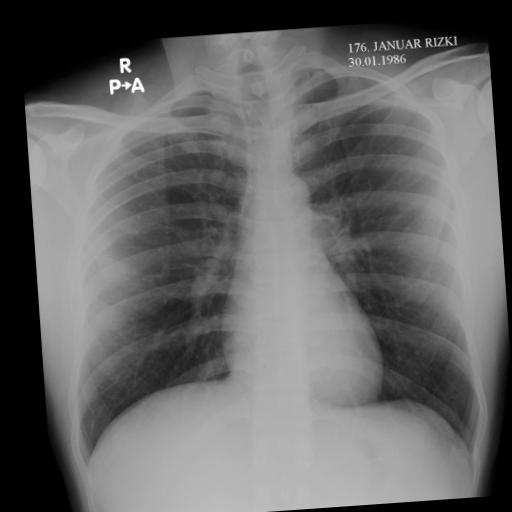normal: (44, 52, 496, 498)
